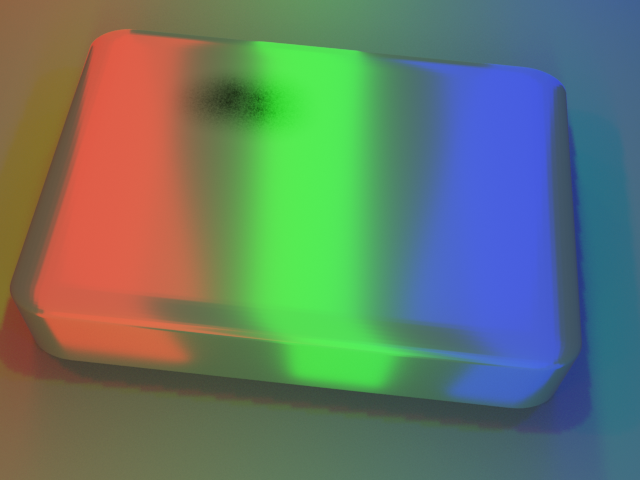stain: (111, 29, 331, 147)
